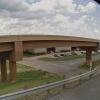Bridge: (1, 26, 94, 67)
